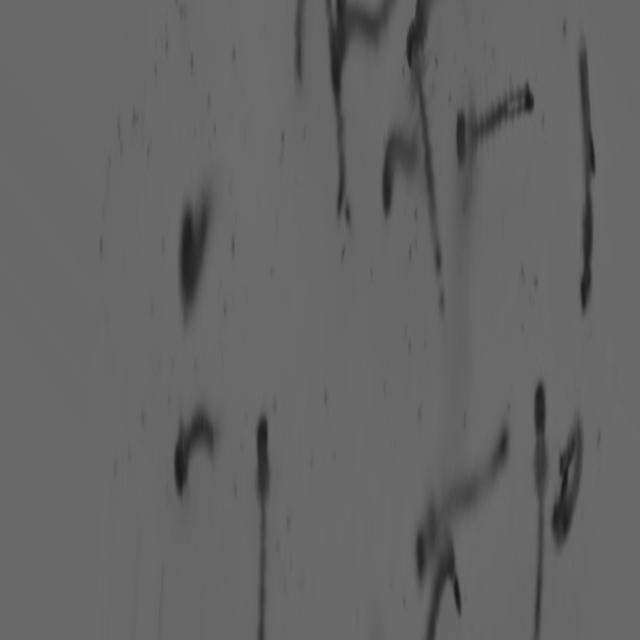larvas: (393, 401, 517, 596), (446, 47, 545, 200), (249, 398, 308, 640), (566, 5, 602, 336), (512, 364, 555, 640), (142, 380, 226, 511), (412, 40, 456, 281), (169, 158, 224, 344), (317, 0, 357, 246), (547, 391, 601, 569), (415, 522, 475, 640), (373, 107, 416, 226), (395, 0, 453, 65), (269, 0, 309, 91)
